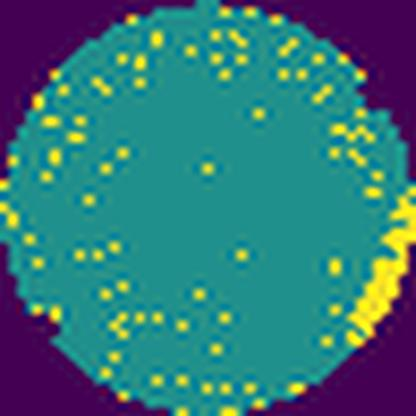Edge-Loc: (342, 183, 415, 352)
